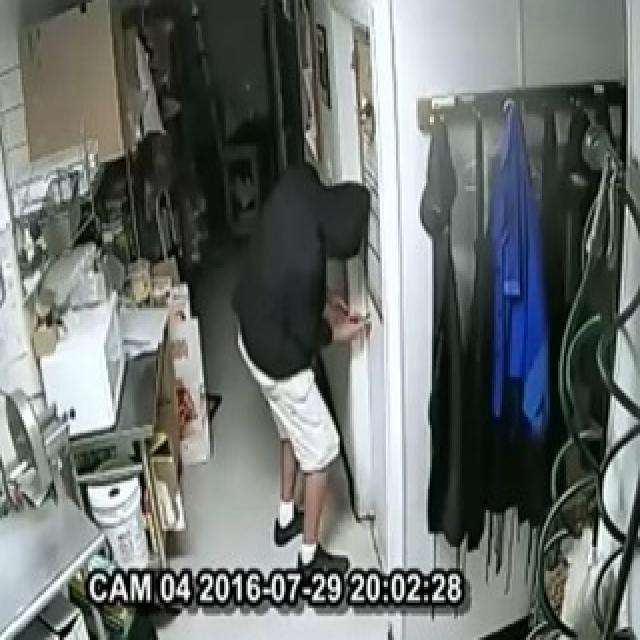thief: (227, 164, 412, 498)
